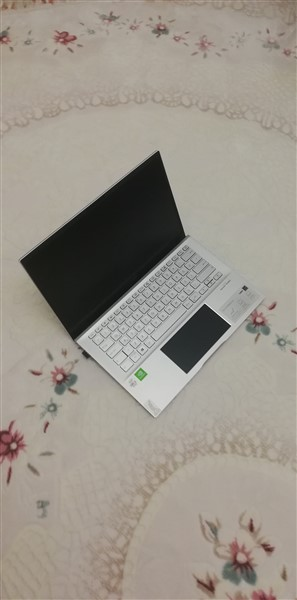laptop: (21, 146, 269, 422)
